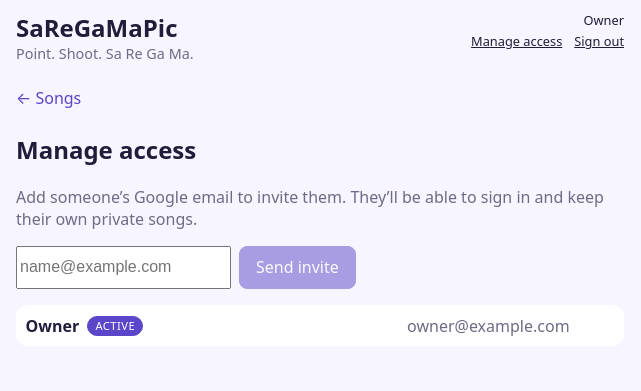
Test: AdminPage / access management (finding #18) › surfaces a 409 conflict from the API
Check: the text "Active" is shown, box top-left (87, 316), bottom-right (143, 336)
Type "owner@example.com" into the field named "Email to invite" at (124, 267), box top-left (16, 246), bottom-right (231, 289)
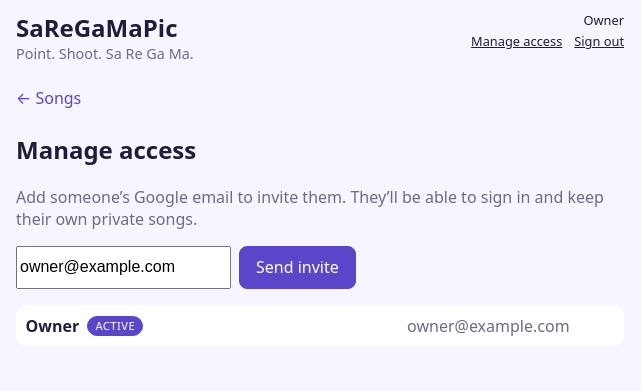
Click the button "Send invite" at (297, 267), box top-left (239, 246), bottom-right (356, 289)
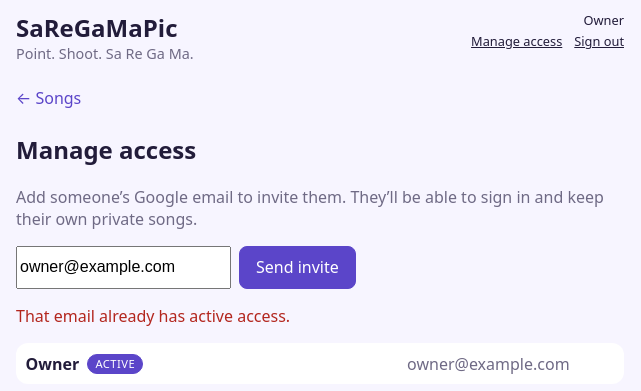
Check: the text "That email already has active access." is shown, box top-left (16, 305), bottom-right (290, 327)
